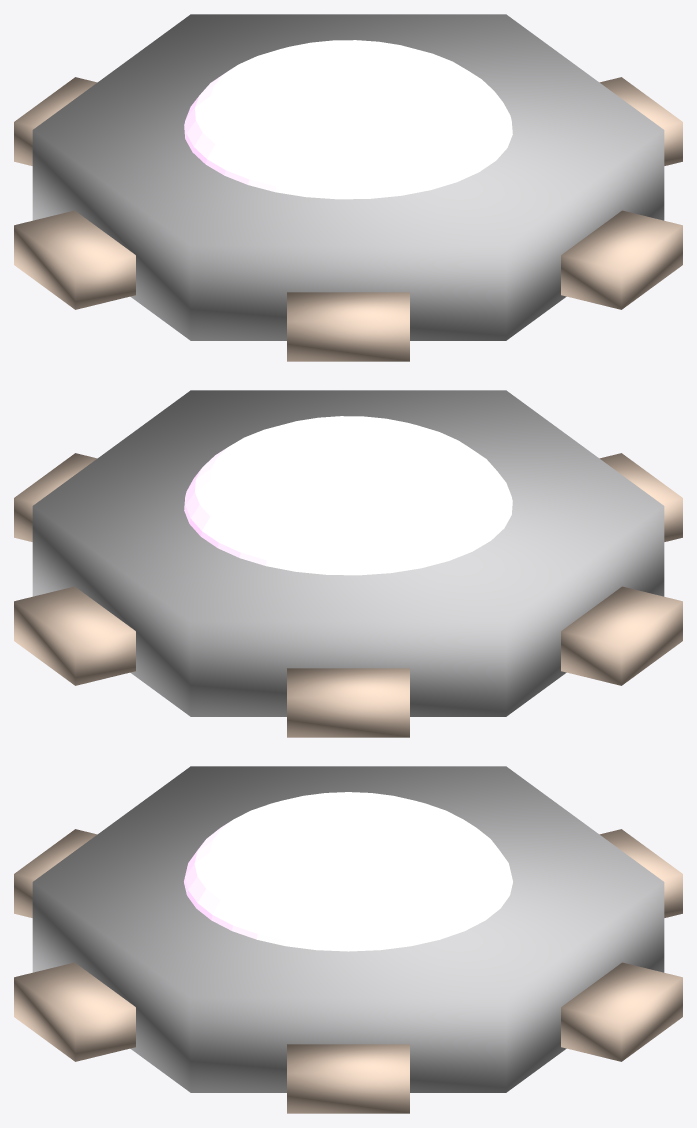
File: Deployable_Drop_Shield_Puck.glb
3 views of the same model, one above another, from view 1: azimuth 30°, elevation 25°; view 2: azimuth 150°, elevation 25°; view 3: azimuth 270°, elevation 25° (orthographic).
Visible parts, largest first — view 1: GEO-shield_puck_base, GEO-shield_projector_lens, GEO-shield_petal_4, GEO-shield_petal_3, GEO-shield_petal_5, GEO-shield_petal_0, GEO-shield_petal_2; view 2: GEO-shield_puck_base, GEO-shield_projector_lens, GEO-shield_petal_2, GEO-shield_petal_1, GEO-shield_petal_3, GEO-shield_petal_0, GEO-shield_petal_4; view 3: GEO-shield_puck_base, GEO-shield_projector_lens, GEO-shield_petal_0, GEO-shield_petal_1, GEO-shield_petal_5, GEO-shield_petal_2, GEO-shield_petal_4.
Boxes of the visible parts, x1=… form: GEO-shield_puck_base: x1=32, y1=14, x2=664, y2=340; GEO-shield_projector_lens: x1=184, y1=40, x2=512, y2=199; GEO-shield_petal_4: x1=287, y1=292, x2=409, y2=361; GEO-shield_petal_3: x1=14, y1=210, x2=135, y2=309; GEO-shield_petal_5: x1=561, y1=210, x2=682, y2=309; GEO-shield_petal_0: x1=599, y1=77, x2=682, y2=165; GEO-shield_petal_2: x1=14, y1=77, x2=97, y2=165; GEO-shield_puck_base: x1=32, y1=390, x2=664, y2=716; GEO-shield_projector_lens: x1=184, y1=416, x2=512, y2=575; GEO-shield_petal_2: x1=287, y1=668, x2=409, y2=737; GEO-shield_petal_1: x1=14, y1=586, x2=135, y2=685; GEO-shield_petal_3: x1=561, y1=586, x2=682, y2=685; GEO-shield_petal_0: x1=14, y1=453, x2=97, y2=541; GEO-shield_petal_4: x1=599, y1=453, x2=682, y2=541; GEO-shield_puck_base: x1=32, y1=766, x2=664, y2=1092; GEO-shield_projector_lens: x1=184, y1=792, x2=512, y2=951; GEO-shield_petal_0: x1=287, y1=1044, x2=409, y2=1113; GEO-shield_petal_1: x1=561, y1=962, x2=682, y2=1061; GEO-shield_petal_5: x1=14, y1=962, x2=135, y2=1061; GEO-shield_petal_2: x1=599, y1=829, x2=682, y2=917; GEO-shield_petal_4: x1=14, y1=829, x2=97, y2=917.
Size of the model in its own units: 0.4 by 0.0977 by 0.3814.
